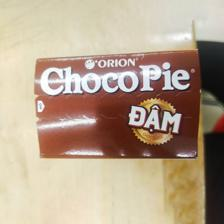Chocopie_cacao: (31, 47, 204, 160)
